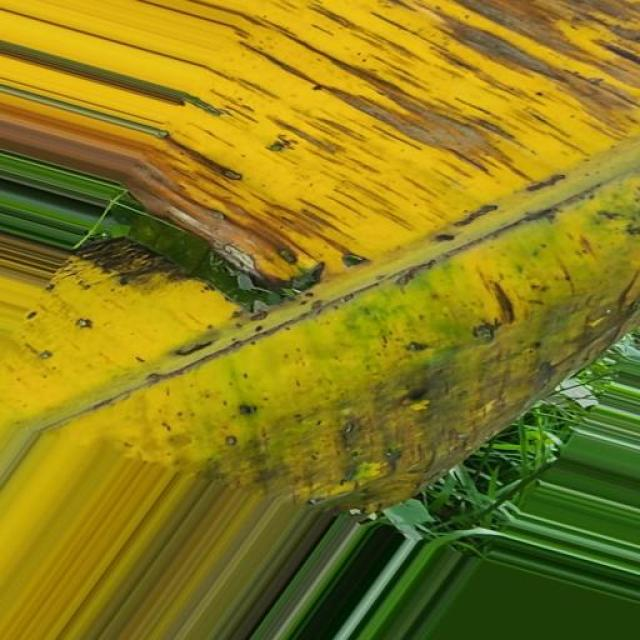Cordana: (0, 0, 639, 528)
